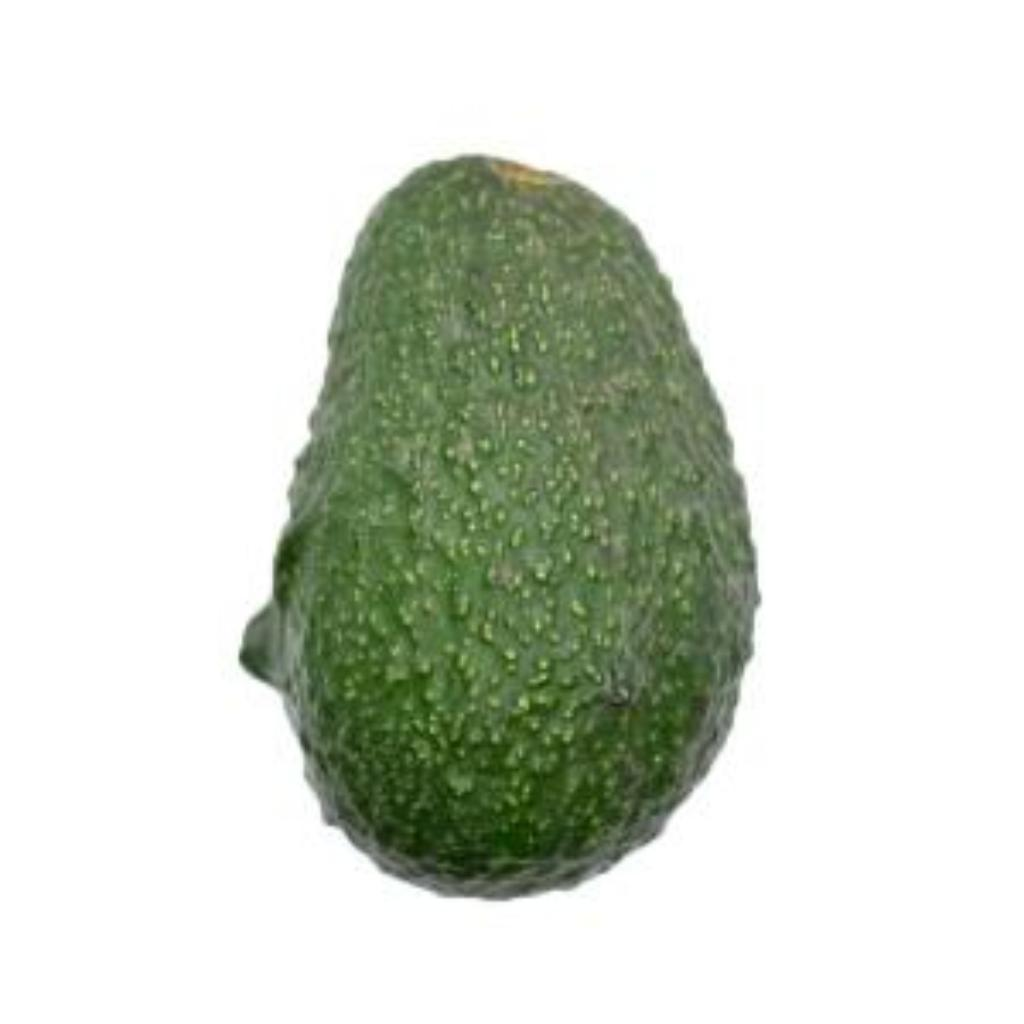cercospora: (234, 137, 790, 925)
